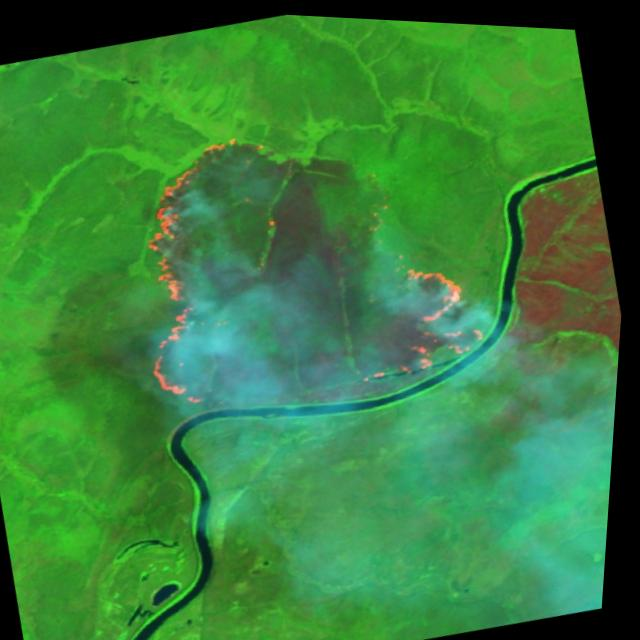fire: (101, 79, 522, 444)
